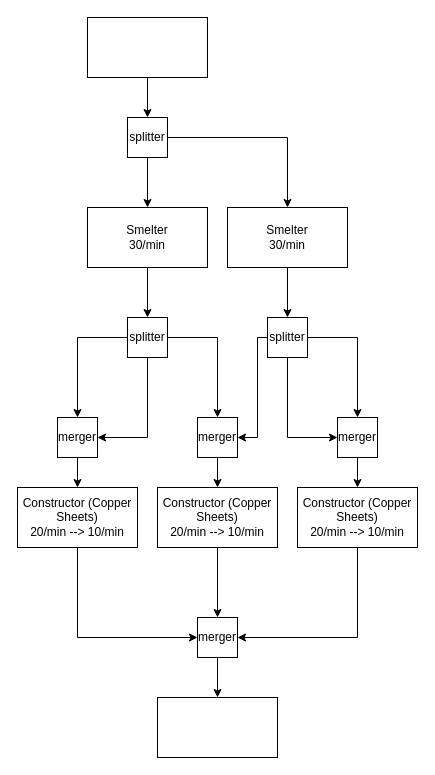
The diagram is 435 pixels wide and 775 high, and some of its shapes have lost their labels. Each missing label, with the centre of its shape:
Mine 60/min: point (147, 47)
storage: point (217, 727)
